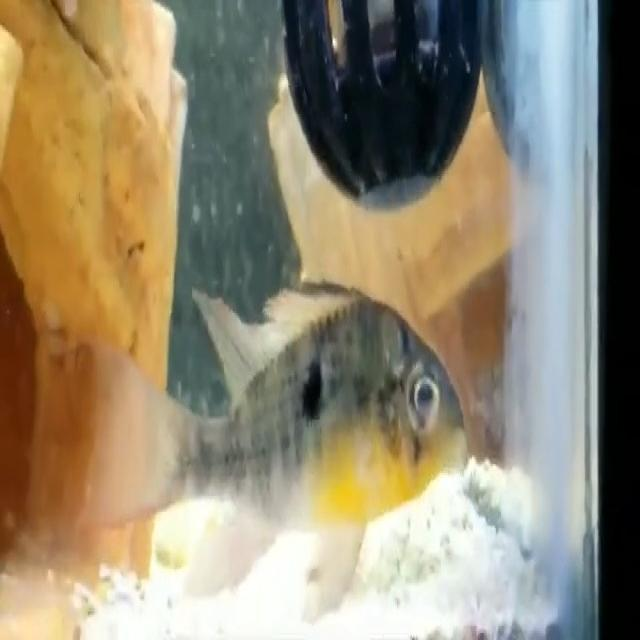fish: (87, 267, 473, 640)
